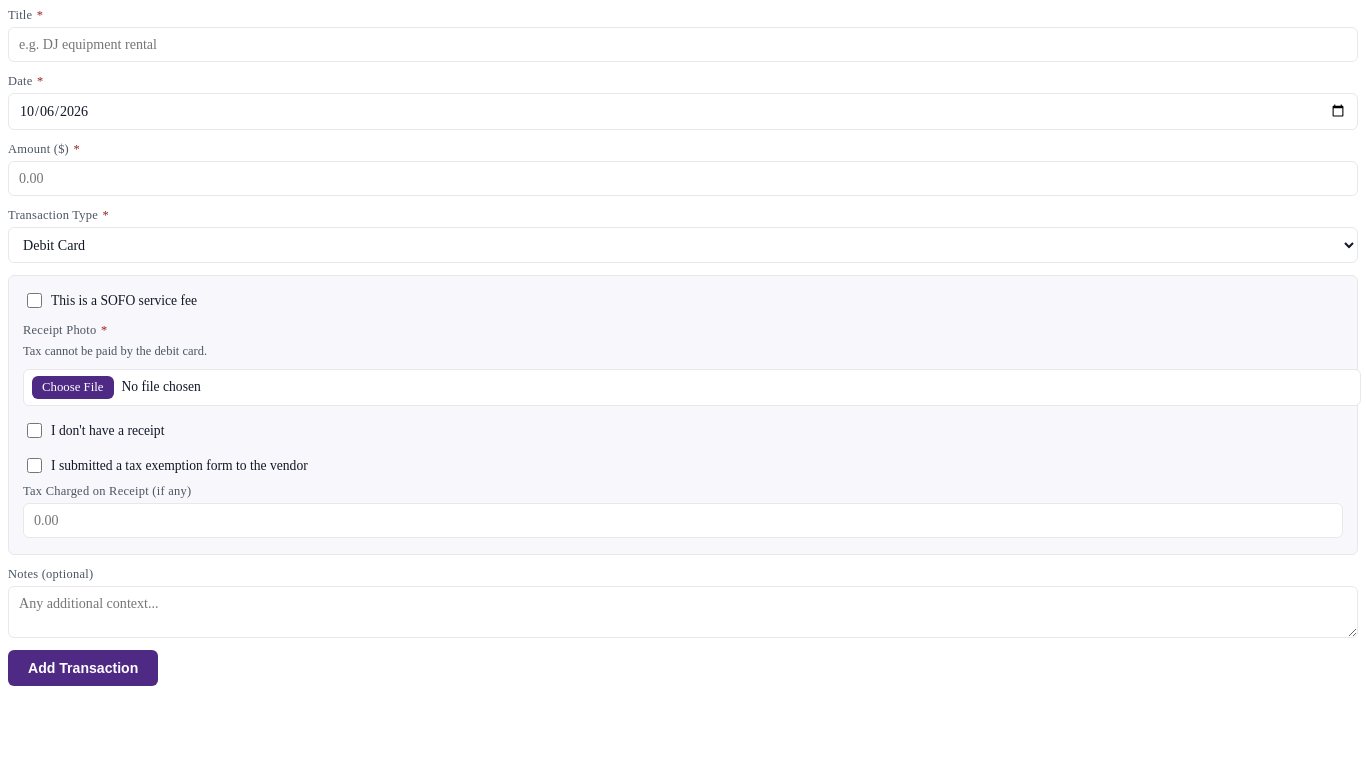
Test case: AddTransactionForm › warns before an outflow that would overdraw the budget line, and lets the user cancel
This screenshot has width=1366, height=768.
Type "Pizza" into the field labelled "Title *" at (683, 44), box [8,27,1358,62]
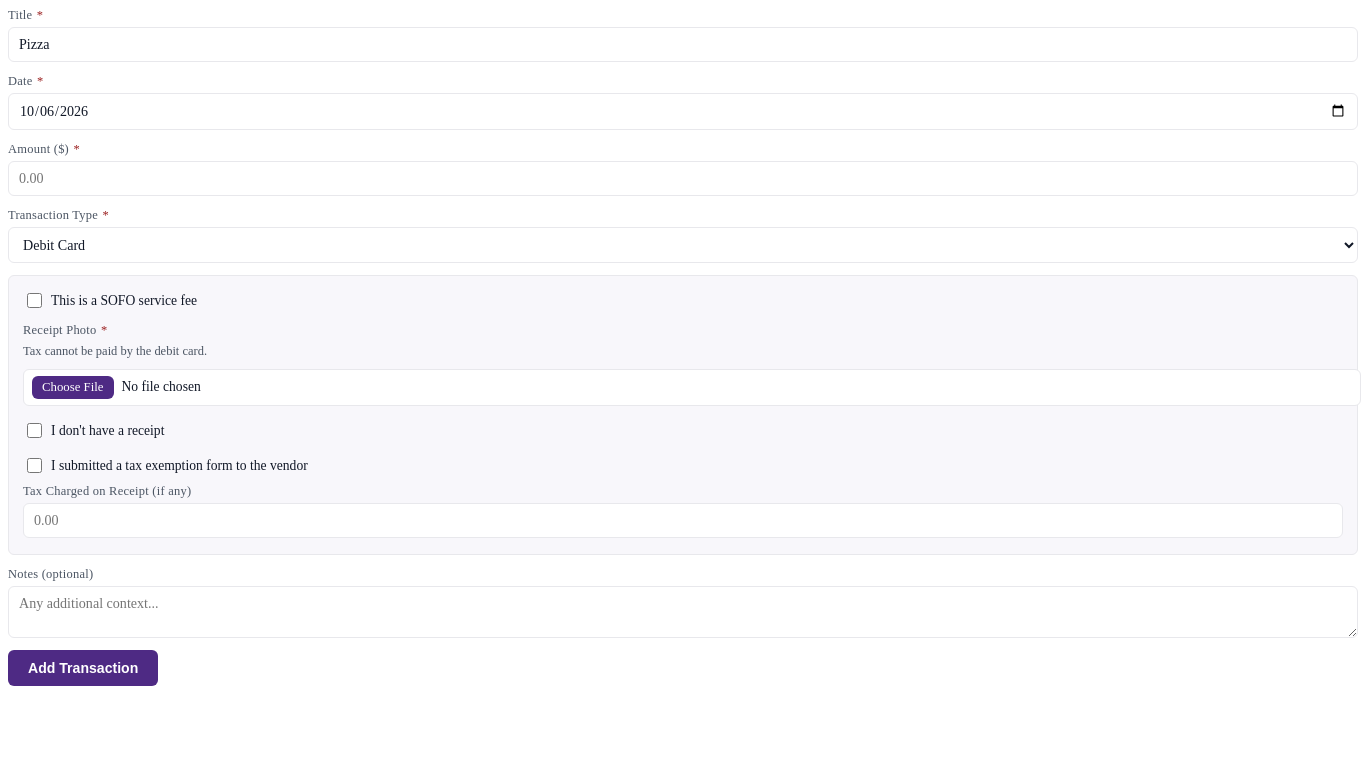
Type "12.50" into the field labelled "Amount ($) *" at (683, 178), box [8,161,1358,196]
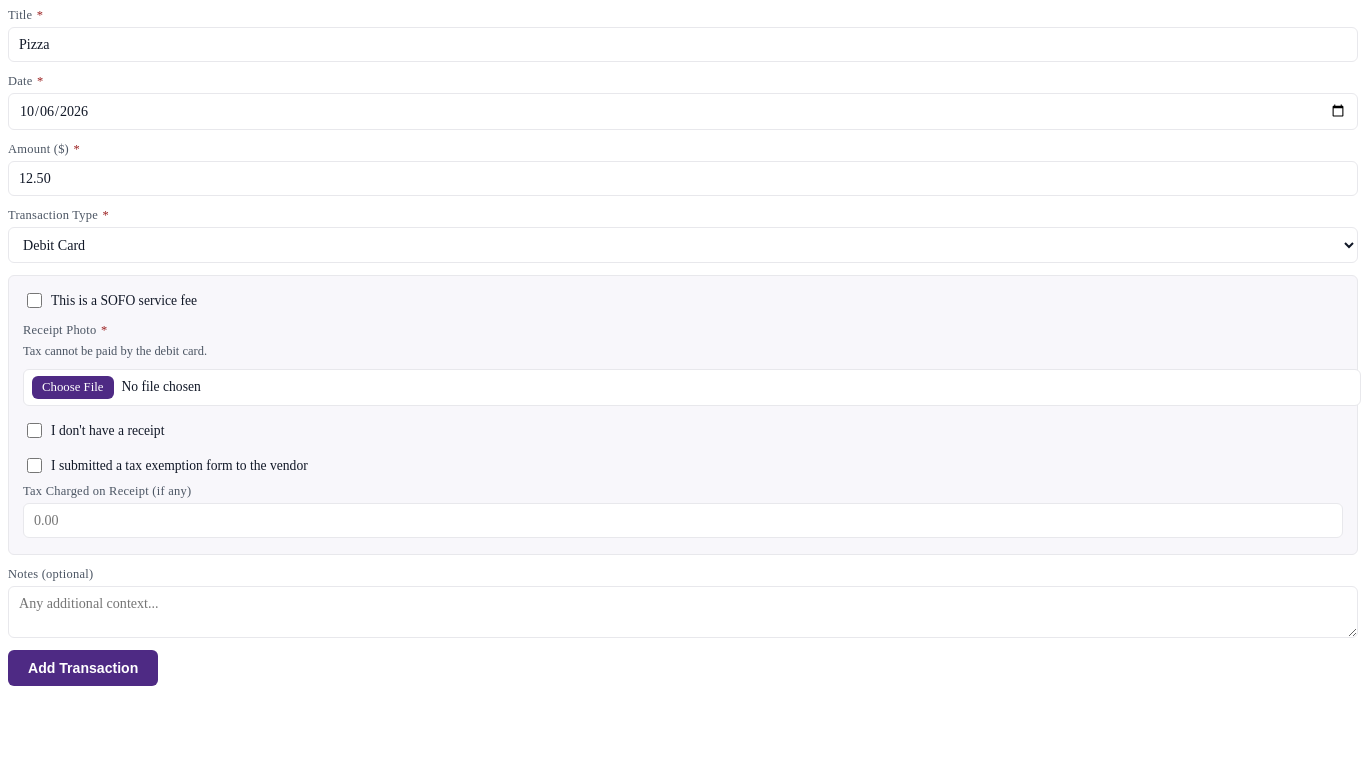
Click the text "I don't have a receipt" at (108, 430), box [51,422,164,438]
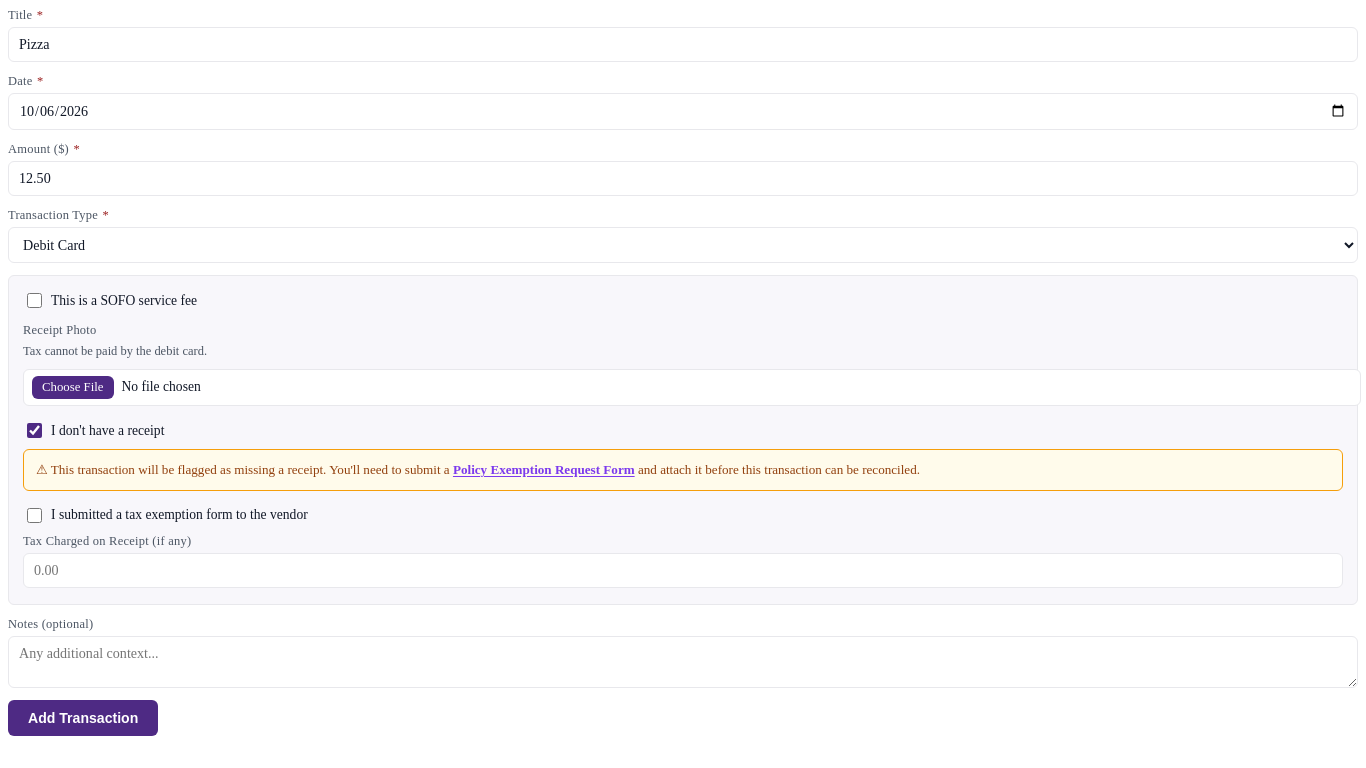
Click the button "Add Transaction" at (83, 718), box [8,700,158,736]
(page scrolled)
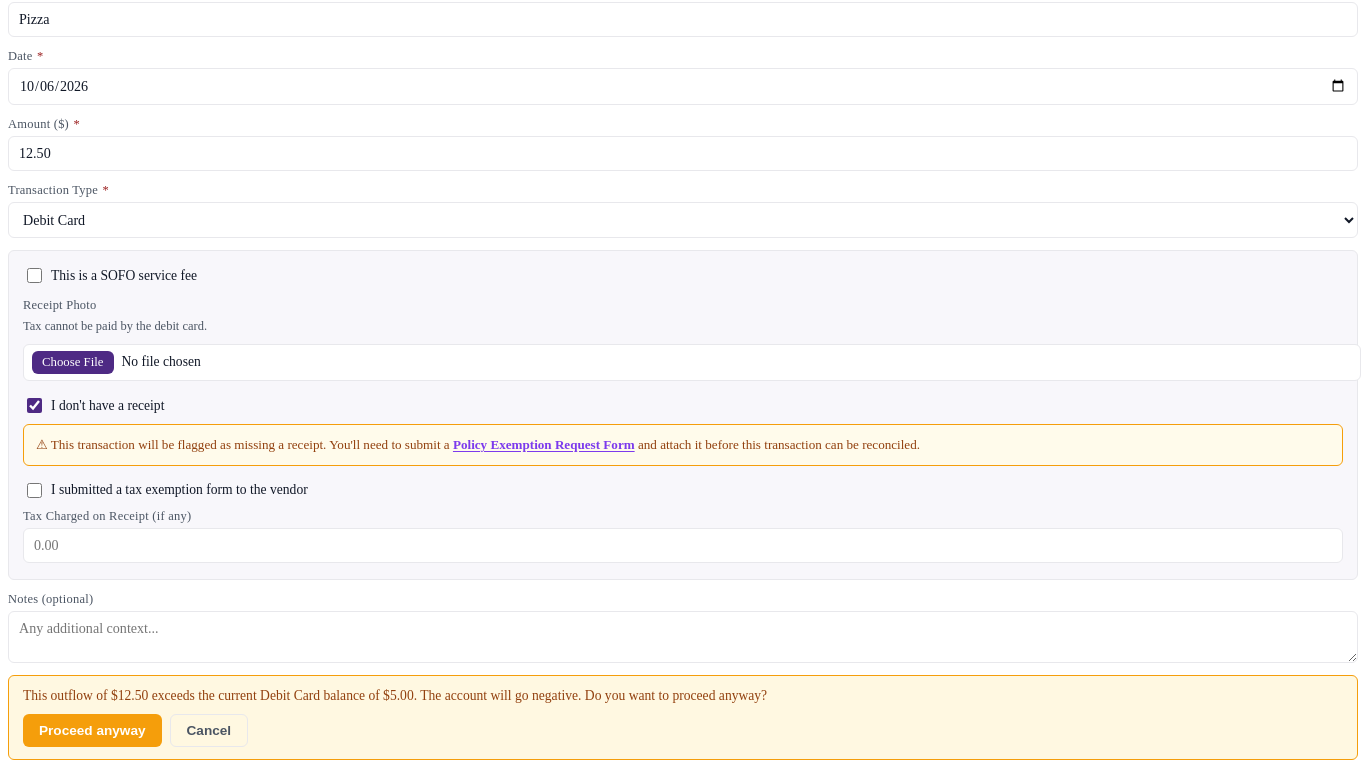
Expected: the message shows "exceeds the current Debit Card balance", [23,688,767,703]
Click the button "Cancel" at (209, 730), box [170,714,248,747]
(page scrolled)
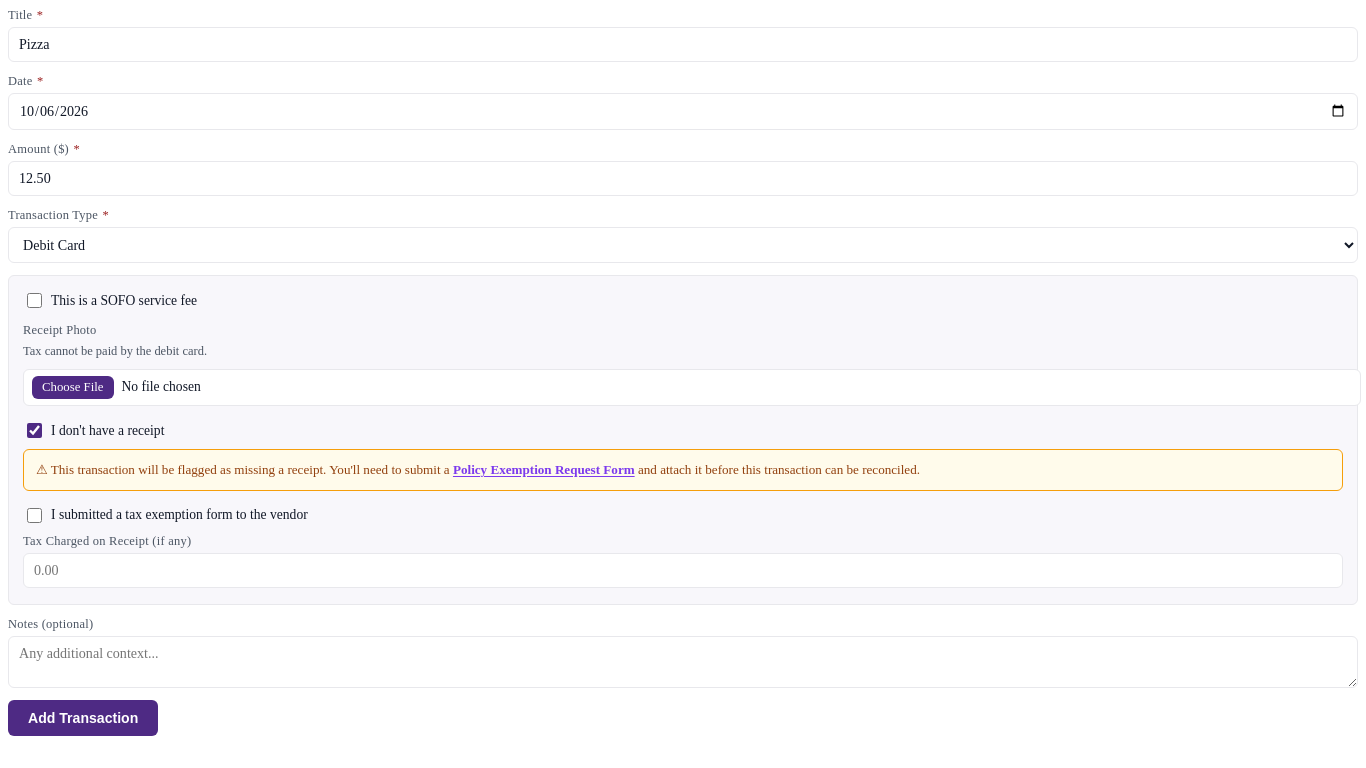
Expected: the text "Proceed anyway" is gone
